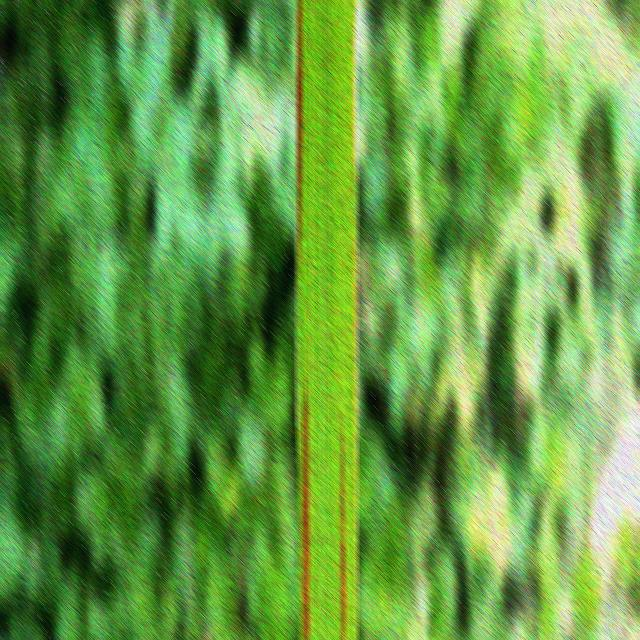NBS: (302, 372, 308, 640), (296, 0, 302, 250), (341, 417, 346, 640)
